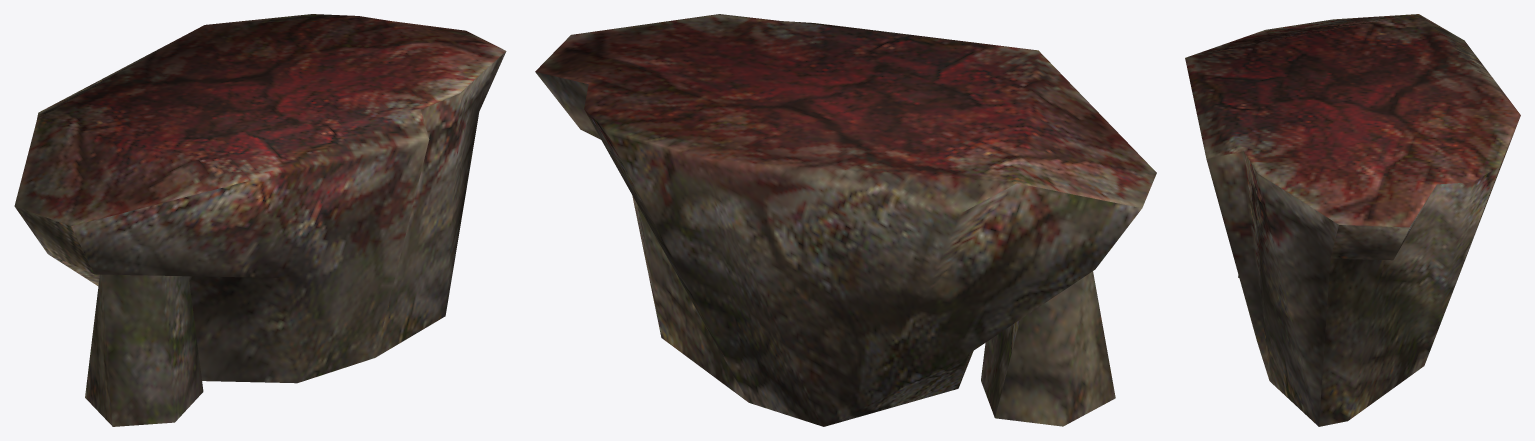
Rendered from Camp03_a.FBX.
The picture shows the model from 3 angles, left to right: view 1: azimuth 30°, elevation 25°; view 2: azimuth 150°, elevation 25°; view 3: azimuth 270°, elevation 25°; orthographic projection. The views are drawn at different scales.
Parts seen in each view (by area): view 1: Camp03_a; view 2: Camp03_a; view 3: Camp03_a.
Boxes of the visible parts, x1,y1,x2,y2 form: Camp03_a: [14, 14, 506, 426]; Camp03_a: [535, 14, 1156, 426]; Camp03_a: [1185, 14, 1520, 426].
Bounding box in the file's own units: 141 × 68.13 × 84.47.
